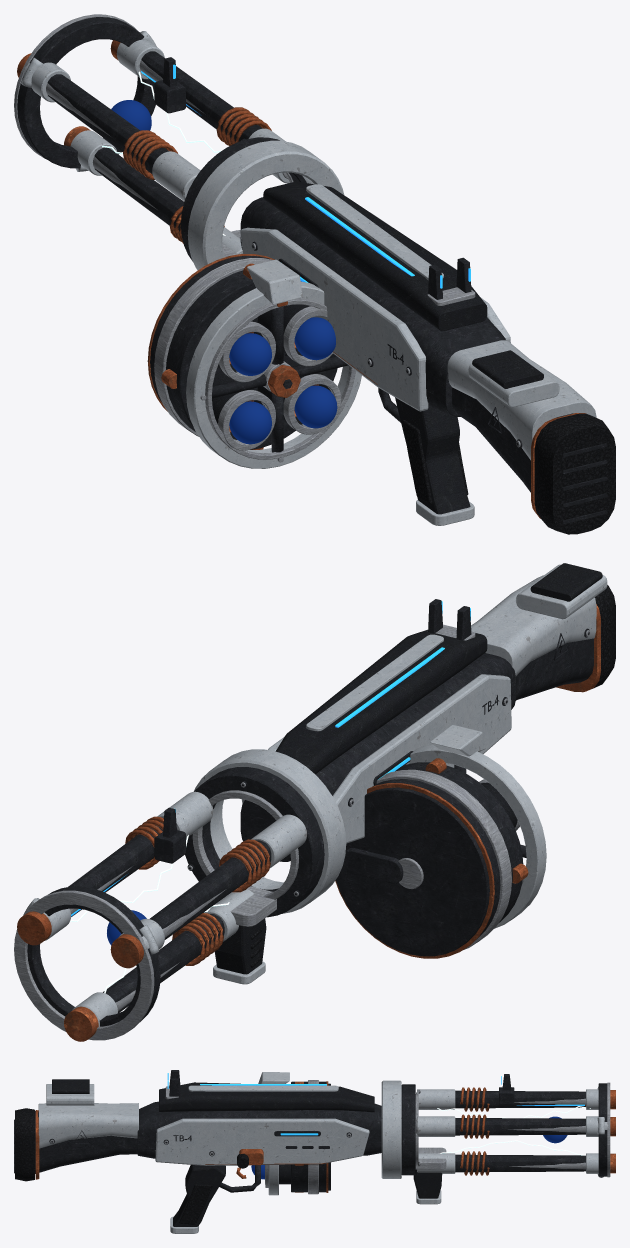
File: thunderbolt.gltf
3 renders of one model, top to bottom at view 1: azimuth 30°, elevation 25°; view 2: azimuth 150°, elevation 25°; view 3: azimuth 270°, elevation 25°, orthographic. The views are drawn at different scales.
Visible parts, largest first — view 1: body, rotor, optic, orb1, orb2, orb3, orb0, energy; view 2: body, rotor, optic; view 3: body, rotor, optic, bolt, arcs.
Part boxes in pixels (left/top/right/bottom): body: left=14, top=14, right=615, bottom=534; rotor: left=147, top=254, right=361, bottom=468; optic: left=154, top=57, right=475, bottom=305; orb1: left=294, top=385, right=337, bottom=428; orb2: left=229, top=401, right=271, bottom=444; orb3: left=229, top=333, right=271, bottom=375; orb0: left=294, top=317, right=335, bottom=360; energy: left=111, top=100, right=151, bottom=130; body: left=14, top=563, right=615, bottom=1041; rotor: left=335, top=744, right=546, bottom=958; optic: left=154, top=599, right=475, bottom=863; body: left=14, top=1072, right=615, bottom=1233; rotor: left=265, top=1080, right=330, bottom=1195; optic: left=165, top=1070, right=514, bottom=1105; bolt: left=237, top=1149, right=263, bottom=1168; arcs: left=437, top=1106, right=590, bottom=1155.
Bounding box in the file's own units: 0.2899 × 0.2765 × 0.9908.
Materials: 9 (6 with a texture image).
